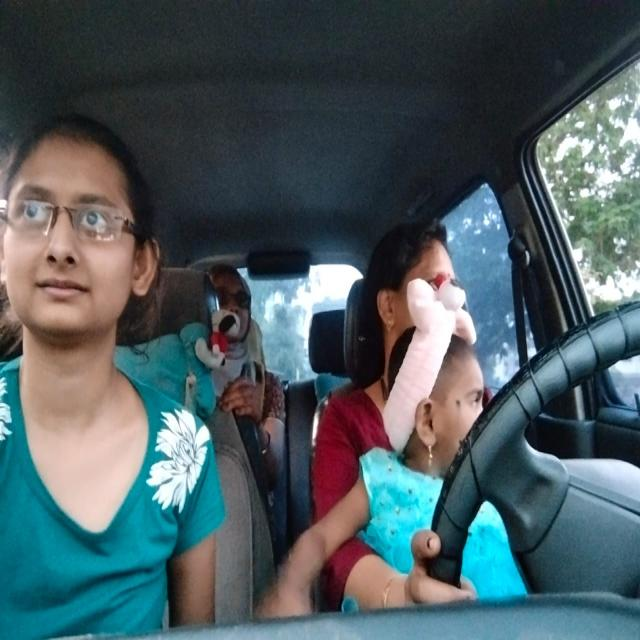child: (388, 328, 488, 462)
person: (5, 115, 163, 367), (358, 214, 470, 326)
